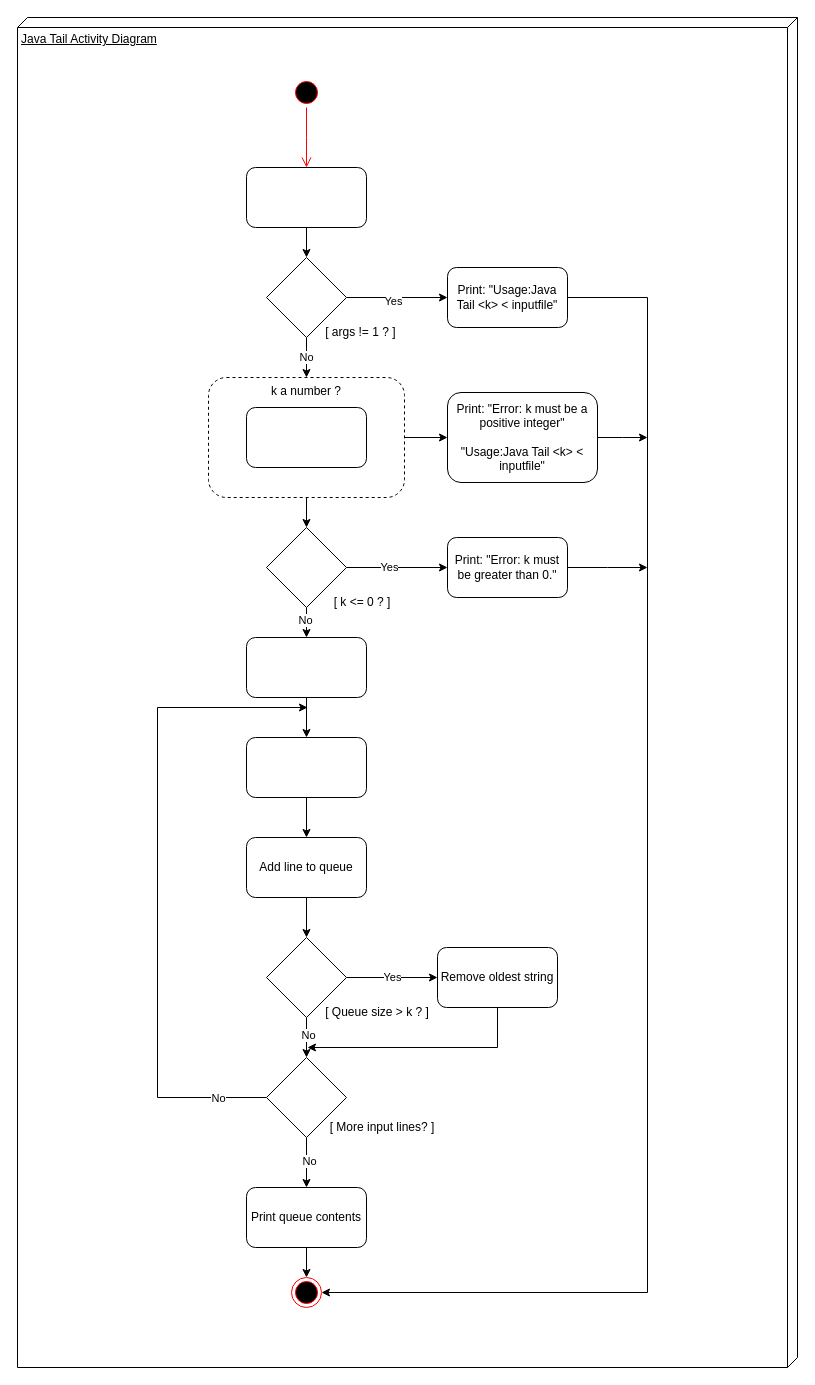
This 815x1385 diagram has some shape labels left out. The shapes that lost their labels are listed below. From the top down, each one's centre as x and y in pixels, then its label:
pixel 306 197: Read command line arguments
pixel 306 437: k = args
pixel 306 667: Create empty queue
pixel 306 767: Read next line
